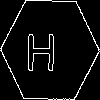H: (25, 24, 57, 71)
